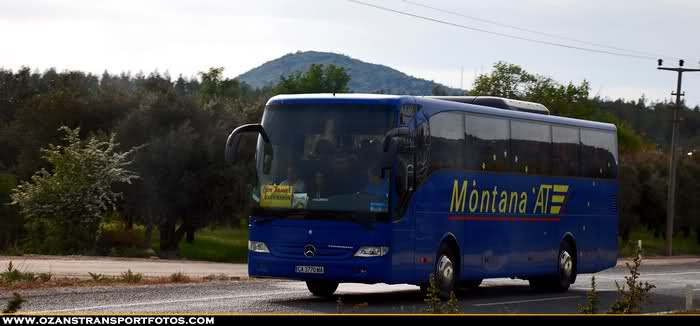bus: (242, 83, 633, 291)
